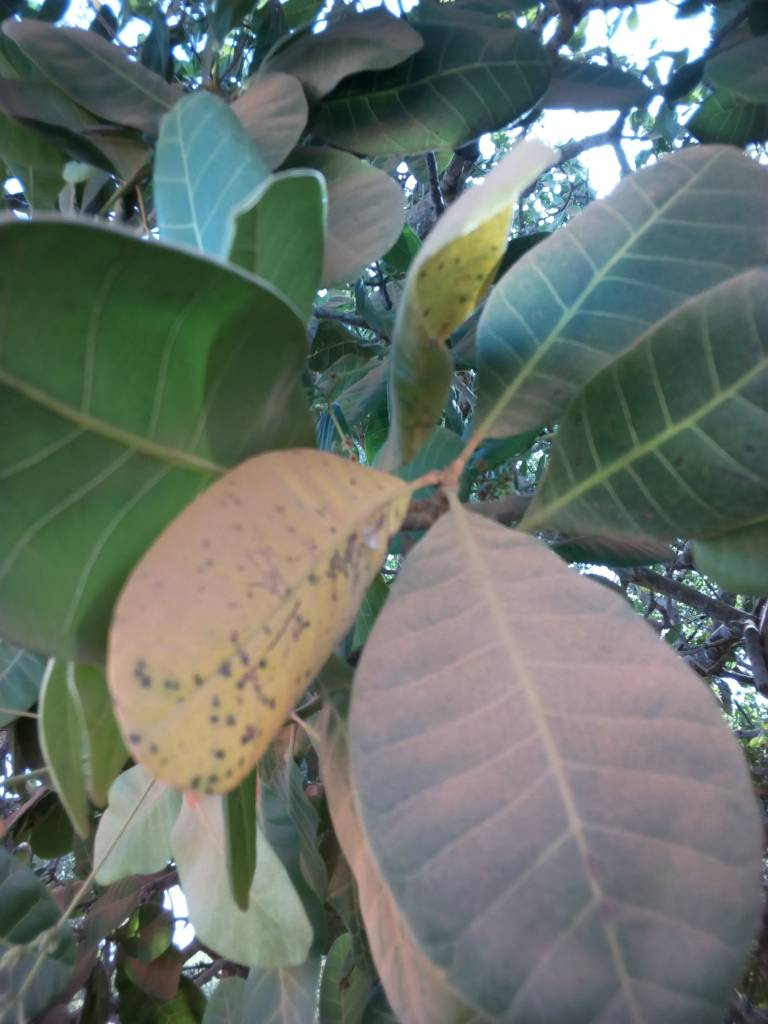Anthracnose: (107, 457, 402, 788)
